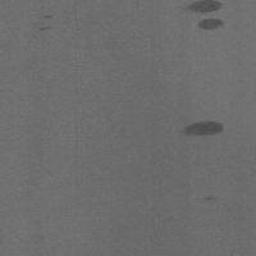Oil spot: (180, 0, 228, 32), (179, 119, 225, 138), (200, 193, 219, 207), (37, 26, 54, 32), (41, 13, 54, 20)
